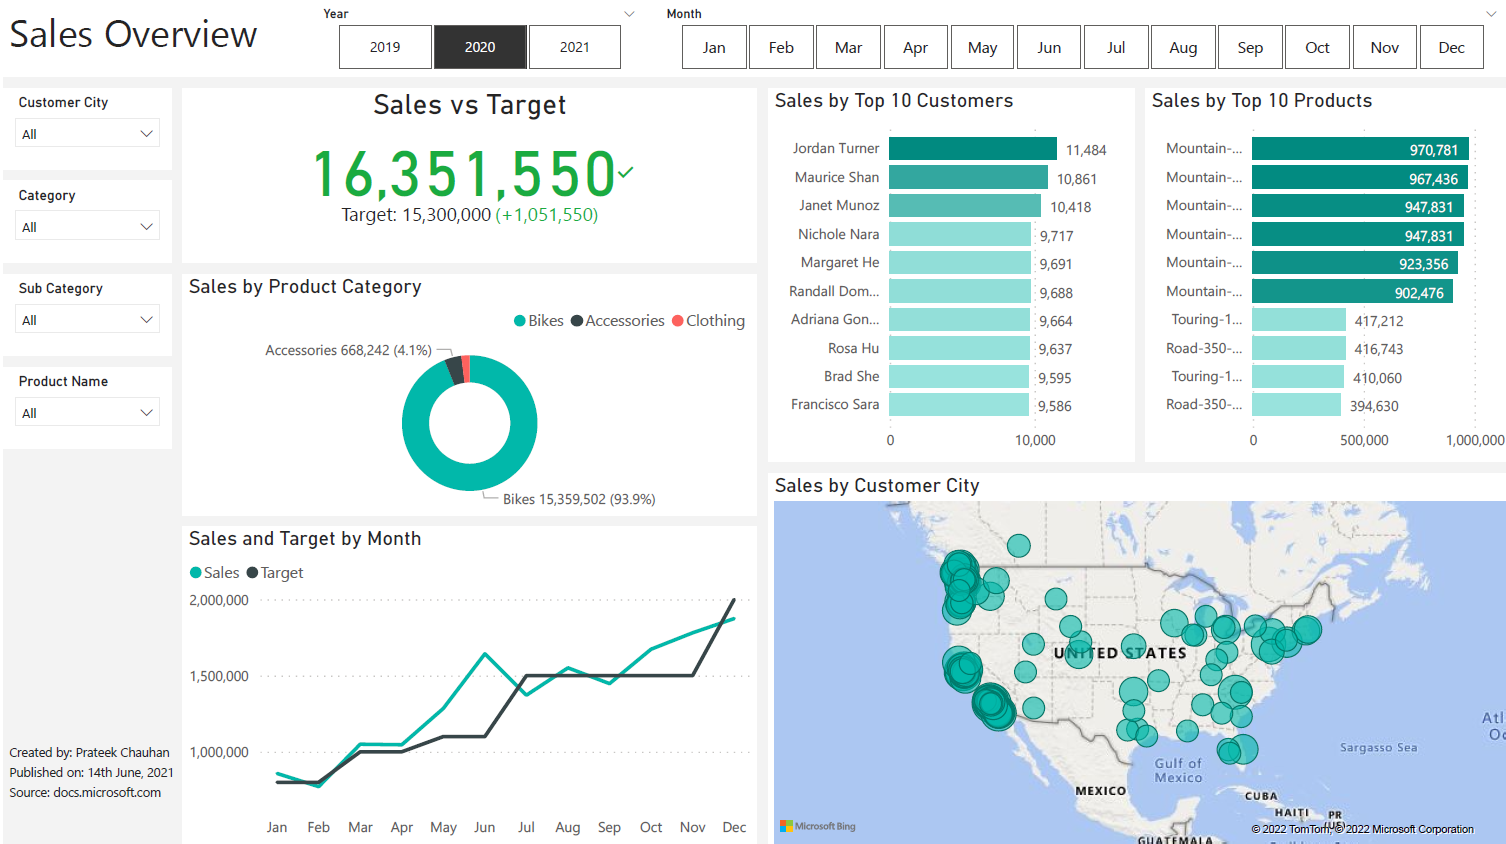

The page's visual inventory and layout, read from the dashboard file:
{"tool":"powerbi","page":{"name":"Sales Overview","canvas":[1280,720],"ordinal":0},"visuals":[{"type":"textbox","box":[0,0,1280,65.2],"z":0},{"type":"slicer","fields":{"Values":["DIM_Customers.Customer City"]},"box":[0,74.9,143,69.1],"z":1000},{"type":"slicer","fields":{"Values":["DIM_Products.Product Category"]},"box":[0,153.7,143,69.1],"z":2000},{"type":"slicer","fields":{"Values":["DIM_Products.Sub Category"]},"box":[0,232.5,143,69.1],"z":3000},{"type":"slicer","fields":{"Values":["DIM_Products.Product Name"]},"box":[0,311.2,143,69.1],"z":4000},{"type":"slicer","fields":{"Values":["DIM_Calendar.Year"]},"box":[259.1,0,290,64.8],"z":5000},{"type":"slicer","fields":{"Values":["DIM_Calendar.MonthShort"]},"box":[549.5,0,730.5,65.2],"z":6000},{"type":"kpi","title":"Sales vs Target","fields":{"Goal":["Key Measures.BUDGET_AMOUNT"],"TrendLine":["DIM_Calendar.Year"],"Indicator":["Key Measures.SALES_AMOUNT"]},"box":[152.7,74.9,487.3,147.8],"z":7000},{"type":"donutChart","title":"Sales by Product Category","fields":{"Category":["DIM_Products.Product Category"],"Y":["Key Measures.SALES_AMOUNT"]},"box":[152.7,232.5,487.3,204.3],"z":8000},{"type":"lineChart","title":"Sales and Target by Month","fields":{"Y":["Key Measures.SALES_AMOUNT","Key Measures.BUDGET_AMOUNT"],"Category":["DIM_Calendar.MonthShort"]},"box":[152.7,446.4,487.3,273.3],"z":9000},{"type":"barChart","title":"Sales by Top 10 Customers","fields":{"Y":["Key Measures.SALES_AMOUNT"],"Category":["DIM_Customers.Full Name"]},"box":[649.7,74.4,310.3,317.1],"z":10000},{"type":"barChart","title":"Sales by Top 10 Products","fields":{"Y":["Key Measures.SALES_AMOUNT"],"Category":["DIM_Products.Product Name"]},"box":[969.7,74.4,310.3,317.1],"z":11000},{"type":"map","title":"Sales by Customer City","fields":{"Category":["DIM_Customers.Customer City"],"Size":["Key Measures.SALES_AMOUNT"]},"box":[649.7,401.2,630.3,319],"z":12000},{"type":"textbox","box":[0,622.8,152.3,96.8],"z":13000}]}

Visuals, with their boxes in screenshot pixels (x1, y1, x2, y2), scaled from the page's 1280x720 canvas onto the 1506x844 screenshot:
textbox: select_region(0, 0, 1505, 76)
slicer - DIM_Customers.Customer City: select_region(0, 88, 168, 169)
slicer - DIM_Products.Product Category: select_region(0, 180, 168, 261)
slicer - DIM_Products.Sub Category: select_region(0, 273, 168, 354)
slicer - DIM_Products.Product Name: select_region(0, 365, 168, 446)
slicer - DIM_Calendar.Year: select_region(305, 0, 646, 76)
slicer - DIM_Calendar.MonthShort: select_region(647, 0, 1505, 76)
"Sales vs Target" kpi: select_region(180, 88, 753, 261)
"Sales by Product Category" donutChart: select_region(180, 273, 753, 512)
"Sales and Target by Month" lineChart: select_region(180, 523, 753, 843)
"Sales by Top 10 Customers" barChart: select_region(764, 87, 1130, 459)
"Sales by Top 10 Products" barChart: select_region(1141, 87, 1505, 459)
"Sales by Customer City" map: select_region(764, 470, 1505, 843)
textbox: select_region(0, 730, 179, 843)
